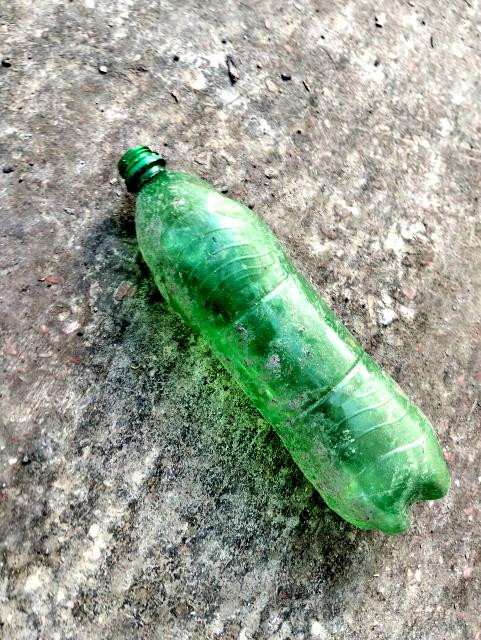bottle: (78, 124, 480, 561)
